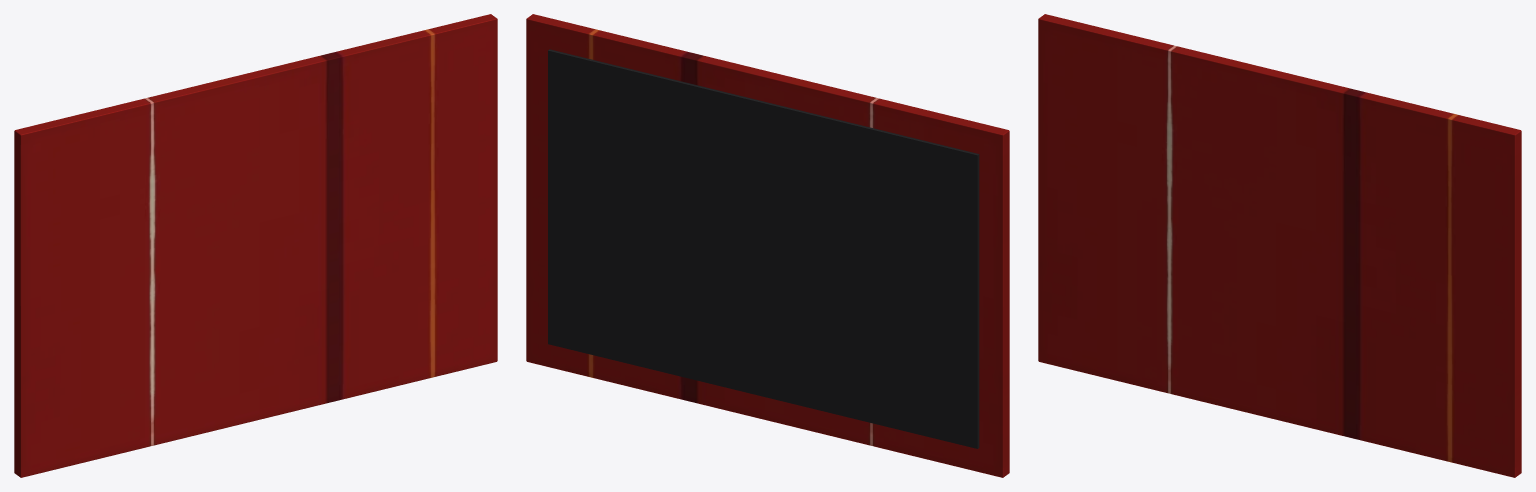
The model's file is art_zip_red.gltf.
3 renders of one model, left to right at view 1: azimuth 30°, elevation 25°; view 2: azimuth 150°, elevation 25°; view 3: azimuth 330°, elevation 25°, orthographic.
Visible parts, largest first — view 1: Art_ZipRed_Art; view 2: Art_ZipRed_Spacer, Art_ZipRed_Art; view 3: Art_ZipRed_Art.
Part boxes in pixels (box(x1,y1,x2,y2)): Art_ZipRed_Art: box(14, 14, 497, 477); Art_ZipRed_Spacer: box(548, 49, 979, 448); Art_ZipRed_Art: box(526, 14, 1009, 477); Art_ZipRed_Art: box(1038, 14, 1521, 477).
Bounding box in the file's own units: 1.6 × 1.1 × 0.05.
Materials: 2 (1 with a texture image).
